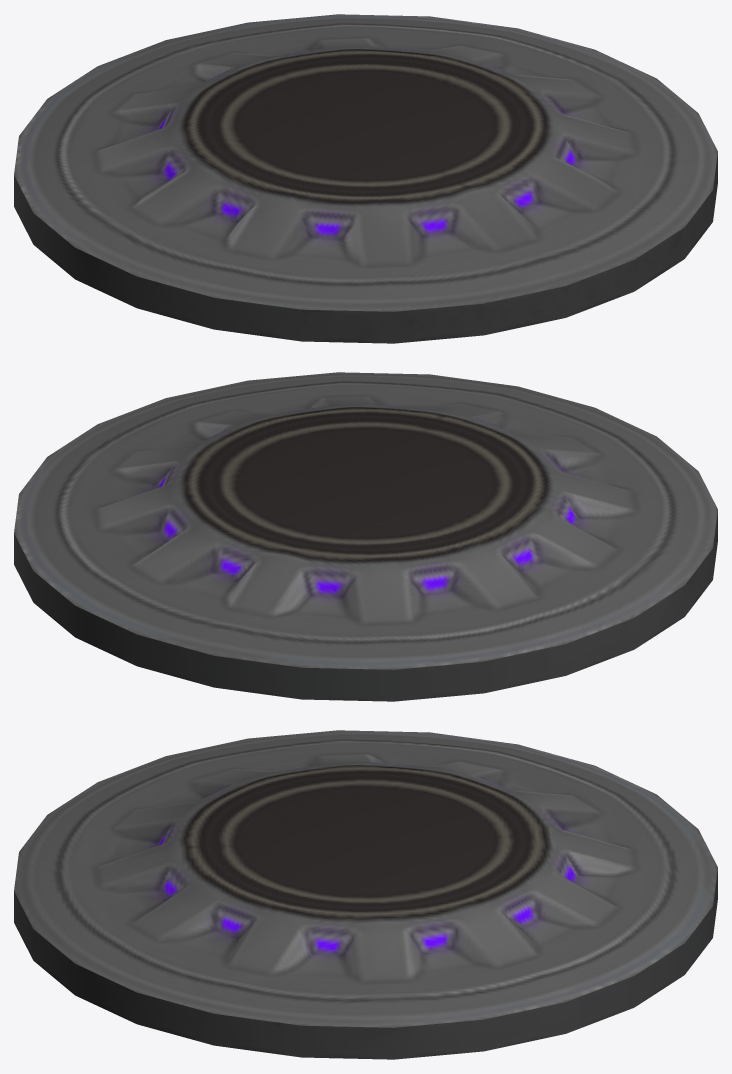
File: pan.FBX
3 renders of one model, top to bottom at view 1: azimuth 30°, elevation 25°; view 2: azimuth 150°, elevation 25°; view 3: azimuth 270°, elevation 25°, orthographic.
Parts seen in each view (by area): view 1: Object001; view 2: Object001; view 3: Object001.
Boxes of the visible parts, x1,y1,x2,y2 form: Object001: [14, 14, 717, 343]; Object001: [14, 372, 717, 701]; Object001: [14, 730, 717, 1059].
Bounding box in the file's own units: 32.53 × 4.79 × 32.53.
